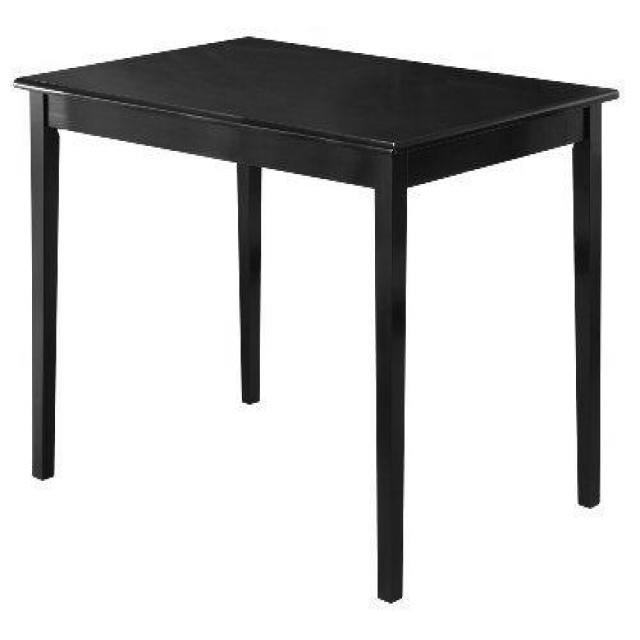table: (11, 31, 620, 601)
